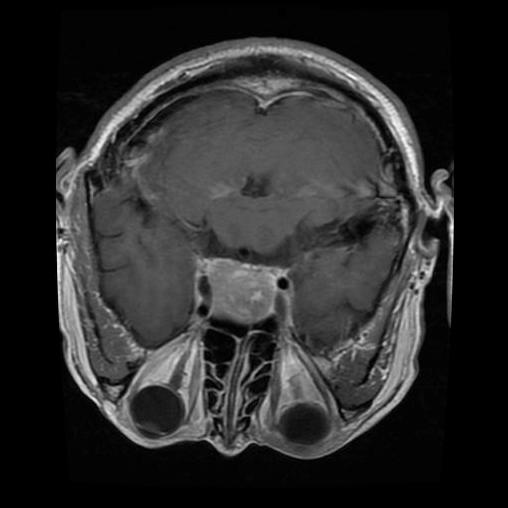Tumour-Pituitary: (191, 255, 300, 329)
